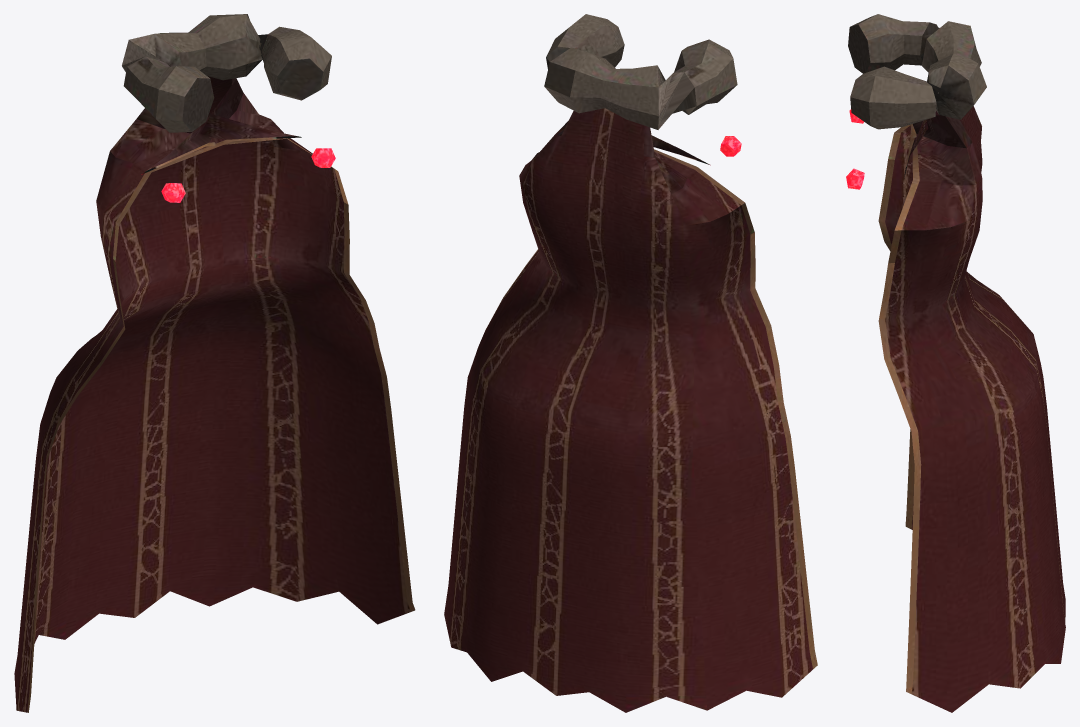
The model's file is Capa_de_Batalha_nivel75.glb.
3 renders of one model, left to right at view 1: azimuth 30°, elevation 25°; view 2: azimuth 150°, elevation 25°; view 3: azimuth 270°, elevation 25°, orthographic. The views are drawn at different scales.
Visible parts, largest first — view 1: capa_de_batalha_nivel75; view 2: capa_de_batalha_nivel75; view 3: capa_de_batalha_nivel75.
Boxes of the visible parts, <box> form: capa_de_batalha_nivel75: <box>14,14,415,712</box>; capa_de_batalha_nivel75: <box>444,14,817,712</box>; capa_de_batalha_nivel75: <box>846,14,1065,712</box>.
Bounding box in the file's own units: 0.707 × 1.13 × 0.3806.
Materials: 1 (1 with a texture image).
